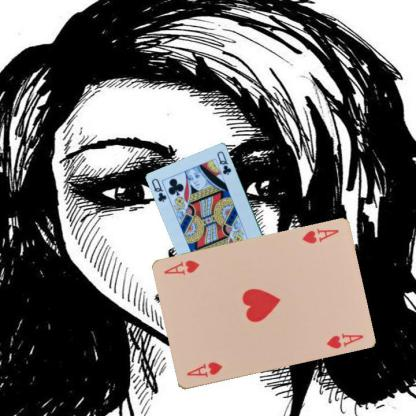Ah: (184, 359, 224, 379), (299, 226, 340, 245)
Qc: (149, 176, 168, 203)
